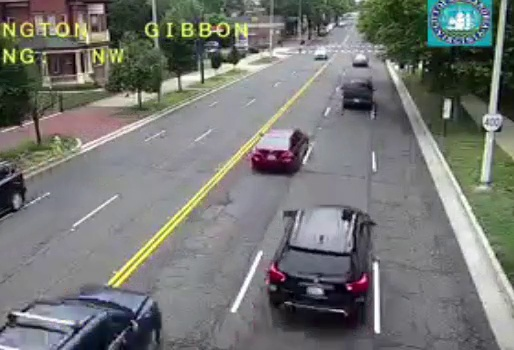car: (268, 205, 371, 323), (1, 289, 158, 350), (250, 130, 308, 171), (342, 82, 373, 109)
